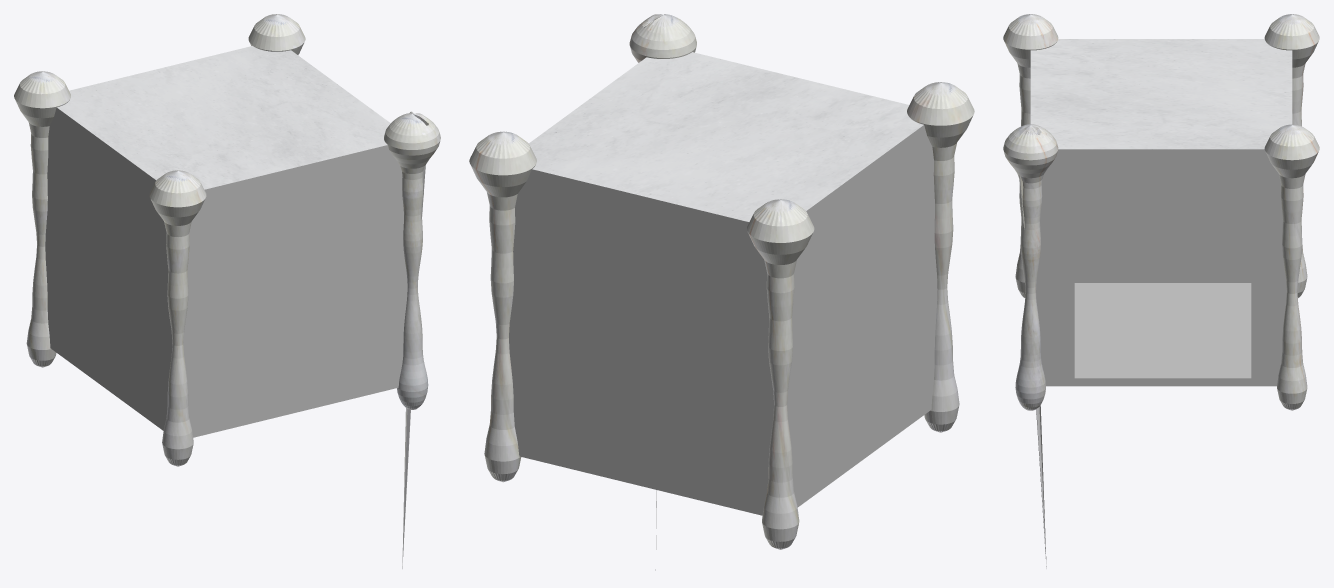
Rendered from Lobby Room.obj.
The picture shows the model from 3 angles, left to right: view 1: azimuth 30°, elevation 25°; view 2: azimuth 150°, elevation 25°; view 3: azimuth 270°, elevation 25°; orthographic projection. The views are drawn at different scales.
Visible parts, largest first — view 1: Plane.003_Plane.004, Plane.005_Plane.006, Plane.004_Plane.005, Cylinder.001, Cylinder, Cylinder.003, Cylinder.002; view 2: Plane.002_Plane.003, Plane.005_Plane.006, Plane.004_Plane.005, Cylinder.003, Cylinder.002, Cylinder, Cylinder.001; view 3: Plane.001_Plane.002, Plane.005_Plane.006, Plane_Plane.001, Cylinder.001, Cylinder.002, Cylinder, Cylinder.003.
Boxes of the visible parts, x1,y1,x2,y2 form: Plane.003_Plane.004: (183,145,407,437); Plane.005_Plane.006: (57,46,390,189); Plane.004_Plane.005: (45,108,172,430); Cylinder.001: (384,111,440,568); Cylinder: (149,170,206,466); Cylinder.003: (14,71,70,367); Cylinder.002: (248,14,305,54); Plane.002_Plane.003: (509,169,773,515); Plane.005_Plane.006: (529,52,923,221); Plane.004_Plane.005: (787,125,937,507); Cylinder.003: (747,199,814,549); Cylinder.002: (469,131,536,482); Cylinder: (907,82,974,432); Cylinder.001: (629,14,696,570); Plane.001_Plane.002: (1036,149,1286,386); Plane.005_Plane.006: (1030,39,1292,149); Plane_Plane.001: (1074,283,1251,378); Cylinder.001: (1003,124,1058,568); Cylinder.002: (1264,124,1319,410); Cylinder: (1003,14,1058,297); Cylinder.003: (1264,14,1319,297).
Bounding box in the file's own units: 48.44 × 75.94 × 48.44.
